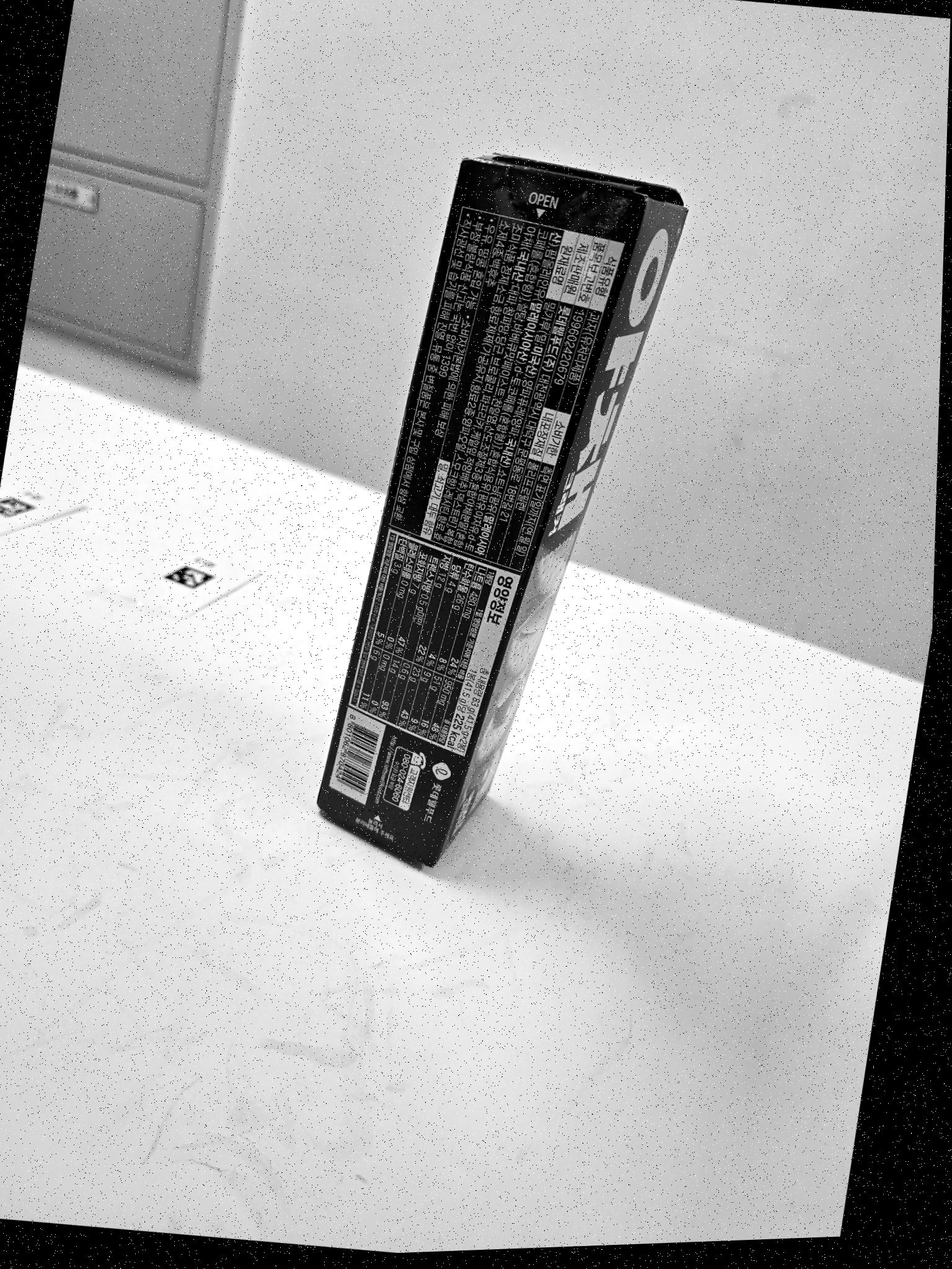cracker_vege: (318, 156, 686, 864)
